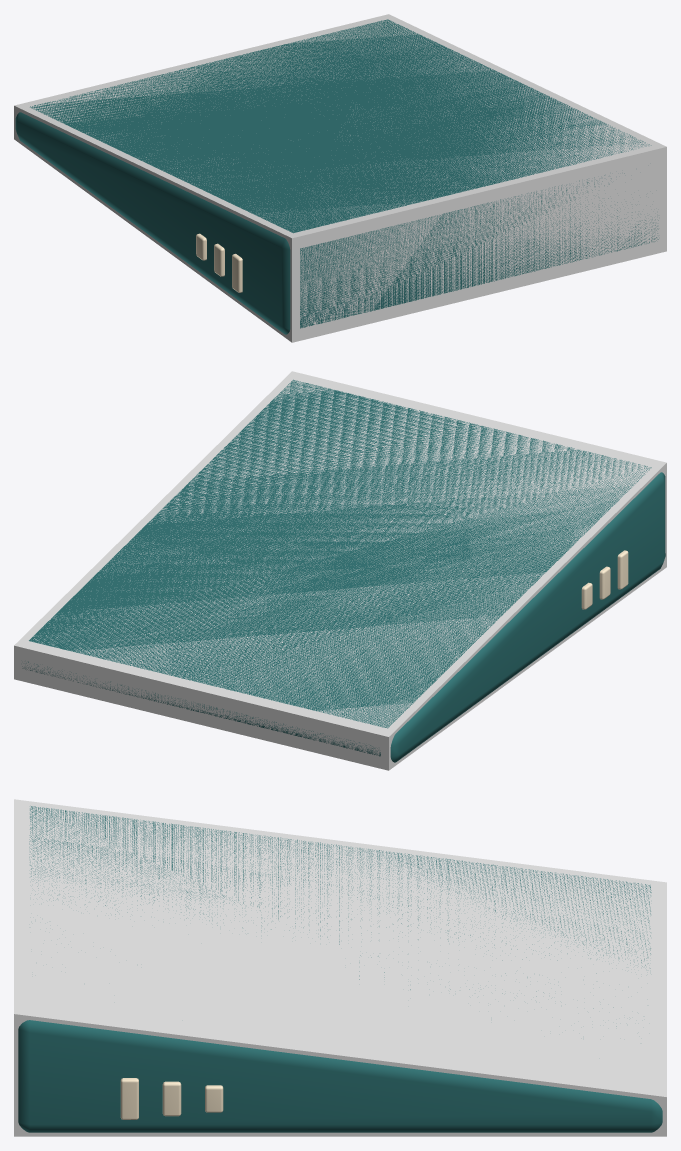
Rendered from A19_WedgeBlock.fbx.
3 renders of one model, top to bottom at view 1: azimuth 30°, elevation 25°; view 2: azimuth 150°, elevation 25°; view 3: azimuth 270°, elevation 25°, orthographic. The views are drawn at different scales.
Visible parts, largest first — view 1: Wedge / molded petrol shell, COL_Wedge; view 2: Wedge / molded petrol shell, COL_Wedge; view 3: COL_Wedge, Wedge / molded petrol shell, Wedge / height mark.003, Wedge / height mark.004, Wedge / height mark.005.
Boxes of the visible parts, left/top/right/bottom form: Wedge / molded petrol shell: left=15, top=19, right=658, bottom=334; COL_Wedge: left=14, top=14, right=666, bottom=342; Wedge / molded petrol shell: left=22, top=379, right=665, bottom=762; COL_Wedge: left=14, top=371, right=666, bottom=770; COL_Wedge: left=14, top=799, right=666, bottom=1136; Wedge / molded petrol shell: left=18, top=806, right=662, bottom=1132; Wedge / height mark.003: left=120, top=1078, right=138, bottom=1119; Wedge / height mark.004: left=162, top=1081, right=181, bottom=1116; Wedge / height mark.005: left=205, top=1085, right=223, bottom=1112.
Size of the model in its own units: 0.201 by 0.0514 by 0.248.
